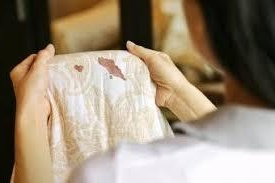blood: (98, 57, 126, 77), (75, 64, 85, 73)
